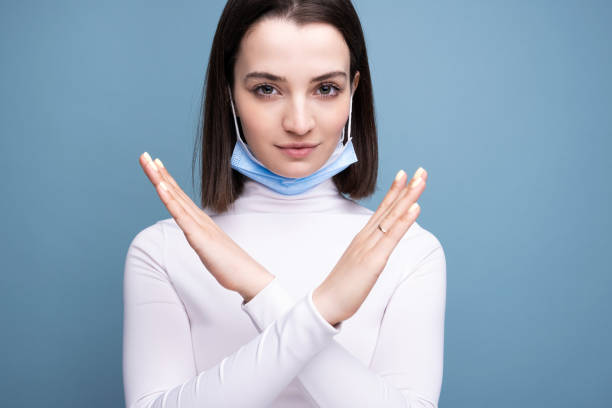mask_weared_incorrect: (216, 1, 357, 194)
